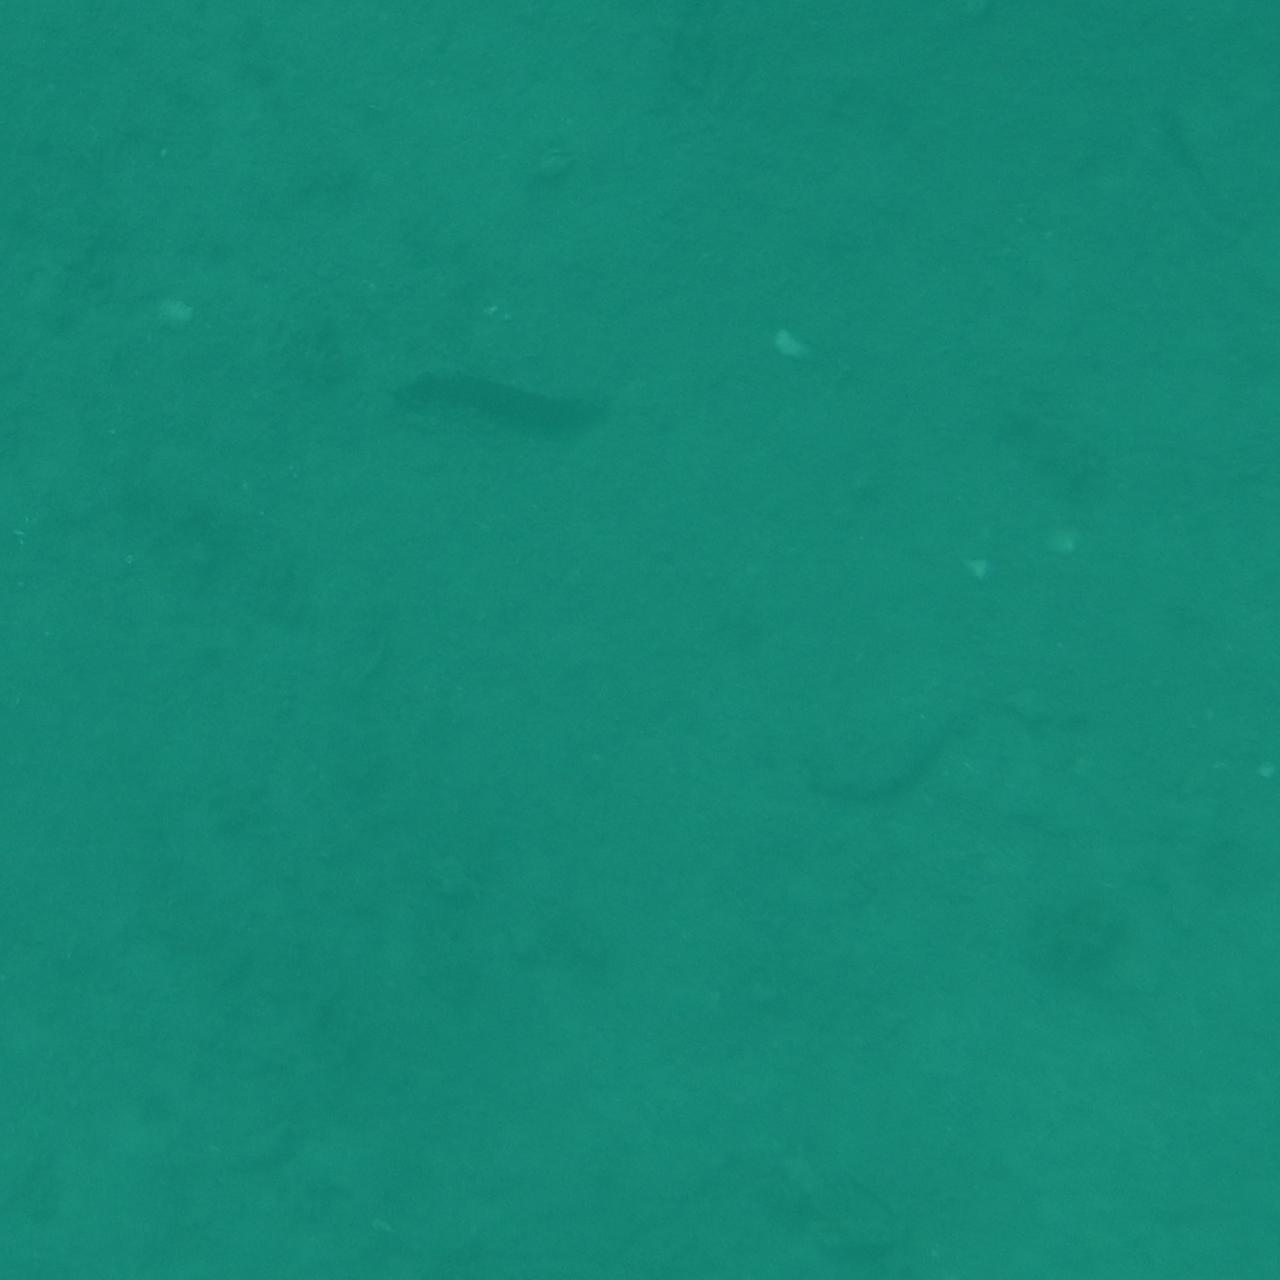Holothuria tubulosa: (802, 690, 1123, 818), (393, 328, 661, 476), (0, 144, 70, 414), (1189, 729, 1280, 935), (1151, 937, 1280, 1068)
